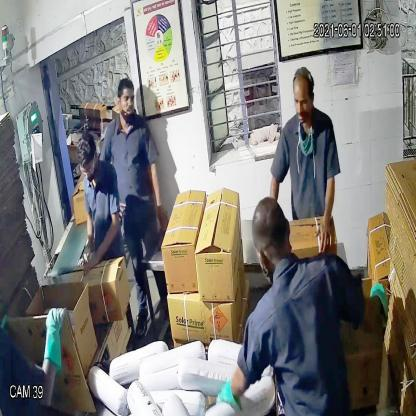goggles: (74, 154, 98, 180)
no_goggles: (290, 90, 316, 114)
